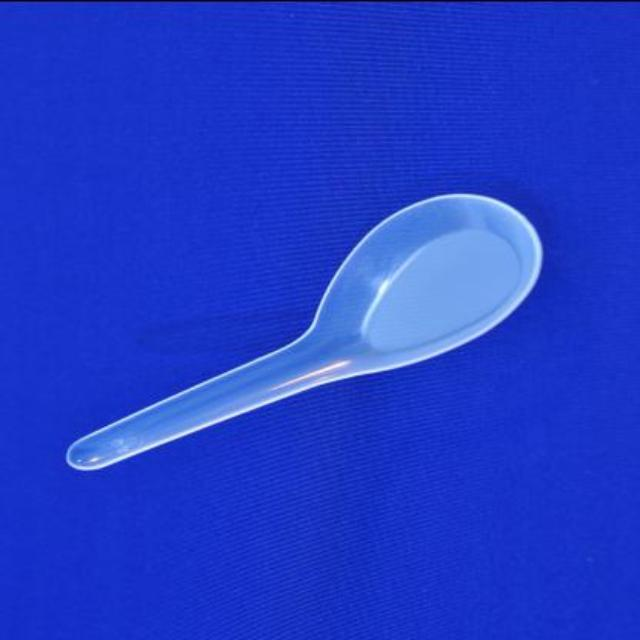plastic_box: (66, 191, 546, 467)
